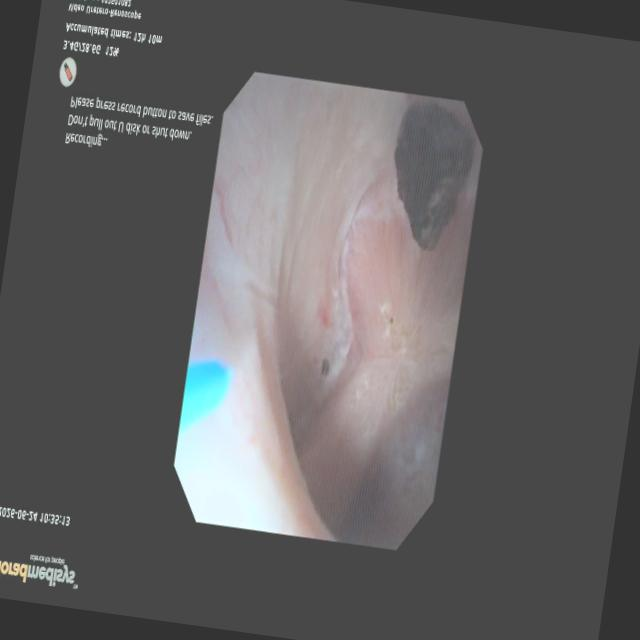stone-new: (394, 102, 473, 250), (320, 359, 329, 377)
